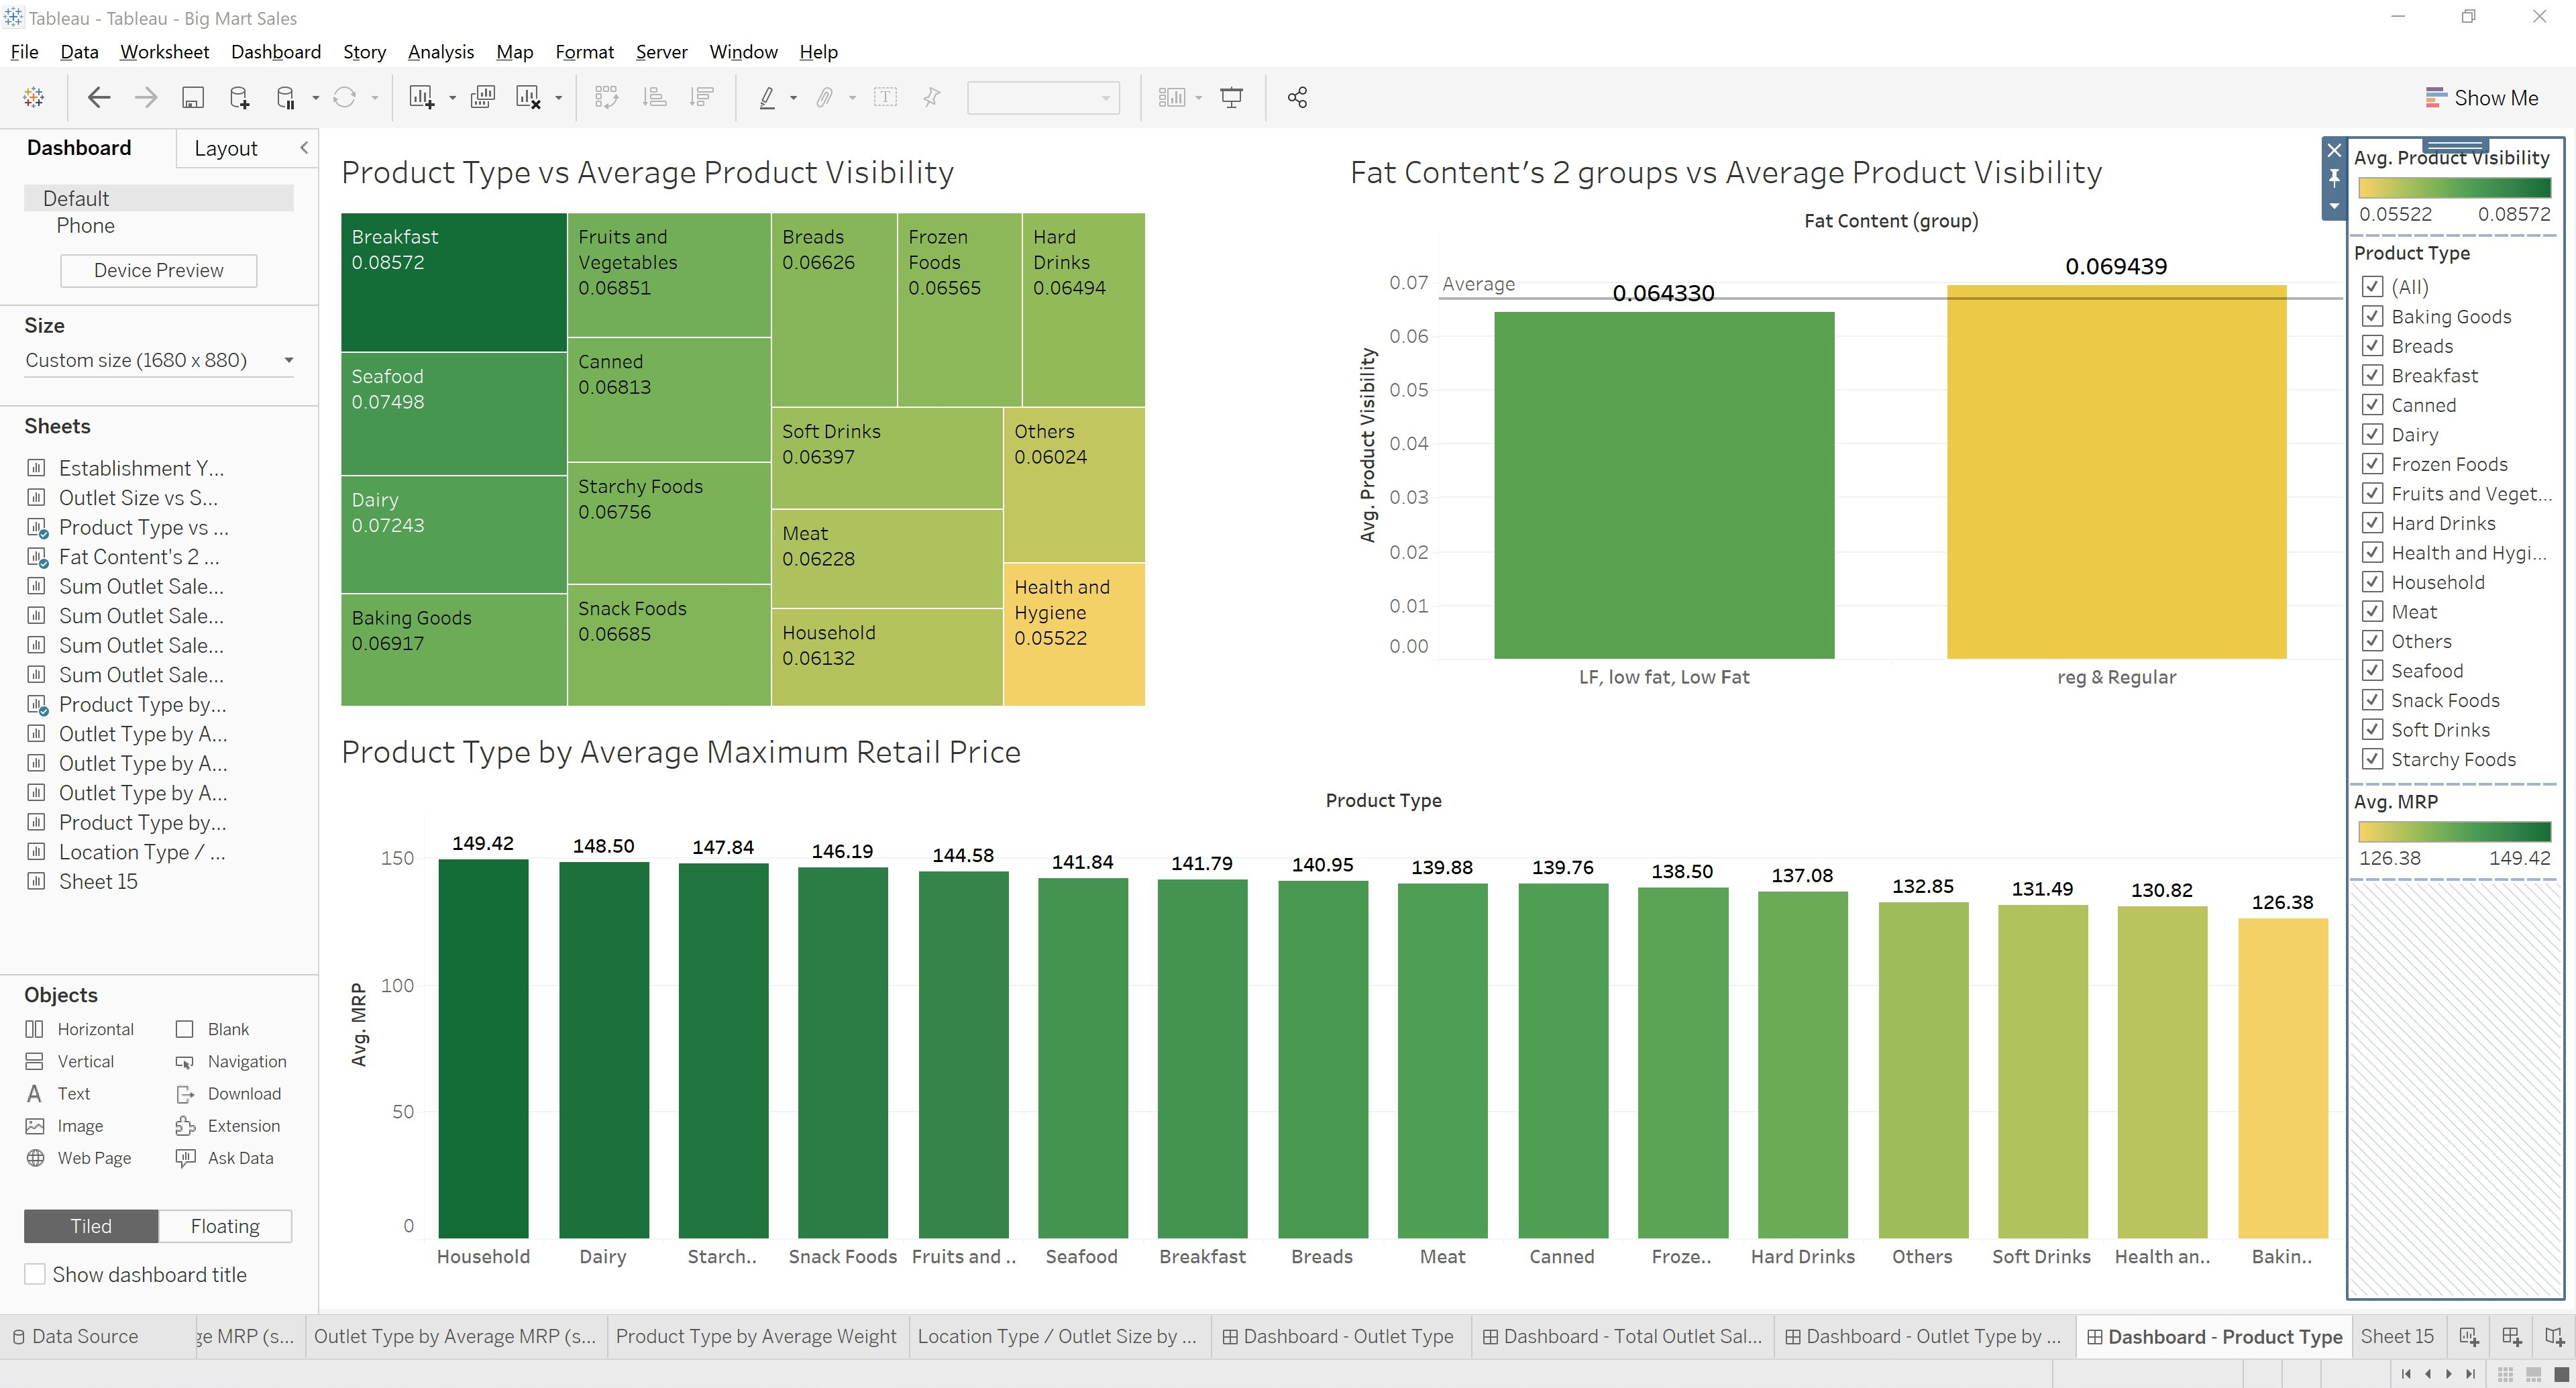

The page's visual inventory and layout, read from the dashboard file:
{"tool":"tableau","page":{"name":"Dashboard - Product Type","canvas":[1680,880],"ordinal":2},"visuals":[{"type":"worksheet","title":"Product Type vs Average Product Visibility","mark":"Automatic","box":[8,8,751.9,432]},{"type":"worksheet","title":"Fat Content's 2 groups vs Average Product Visibility","mark":"Automatic","rows":["ProductVisibility"],"box":[759.9,8,752.1,432]},{"type":"legend","title":"Product Type vs Average Product Visibility","param":"[federated.04nvx7g1tpnqz512rx5cq09d1qcu].[avg:ProductVisibility:qk]","box":[1512,8,160,71]},{"type":"filter","title":"Product Type by Average Maximum Retail Price","param":"[federated.04nvx7g1tpnqz512rx5cq09d1qcu].[none:ProductType:nk]","box":[1512,79,160,409]},{"type":"worksheet","title":"Product Type by Average Maximum Retail Price","mark":"Automatic","rows":["MRP"],"cols":["ProductType"],"box":[8,440,1504,432]},{"type":"legend","title":"Product Type by Average Maximum Retail Price","param":"[federated.04nvx7g1tpnqz512rx5cq09d1qcu].[avg:MRP:qk]","box":[1512,488,160,71]}]}

Visuals, with their boxes on the page's 1680x880 design canvas (x1, y1, x2, y2). These are canvas units, not pixel positions in the 2576x1388 screenshot, which may show the page scaled, cropped or inside an application window:
"Product Type vs Average Product Visibility" worksheet: detection(8, 8, 760, 440)
"Fat Content's 2 groups vs Average Product Visibility" worksheet: detection(760, 8, 1512, 440)
"Product Type vs Average Product Visibility" legend: detection(1512, 8, 1672, 79)
"Product Type by Average Maximum Retail Price" filter: detection(1512, 79, 1672, 488)
"Product Type by Average Maximum Retail Price" worksheet: detection(8, 440, 1512, 872)
"Product Type by Average Maximum Retail Price" legend: detection(1512, 488, 1672, 559)
